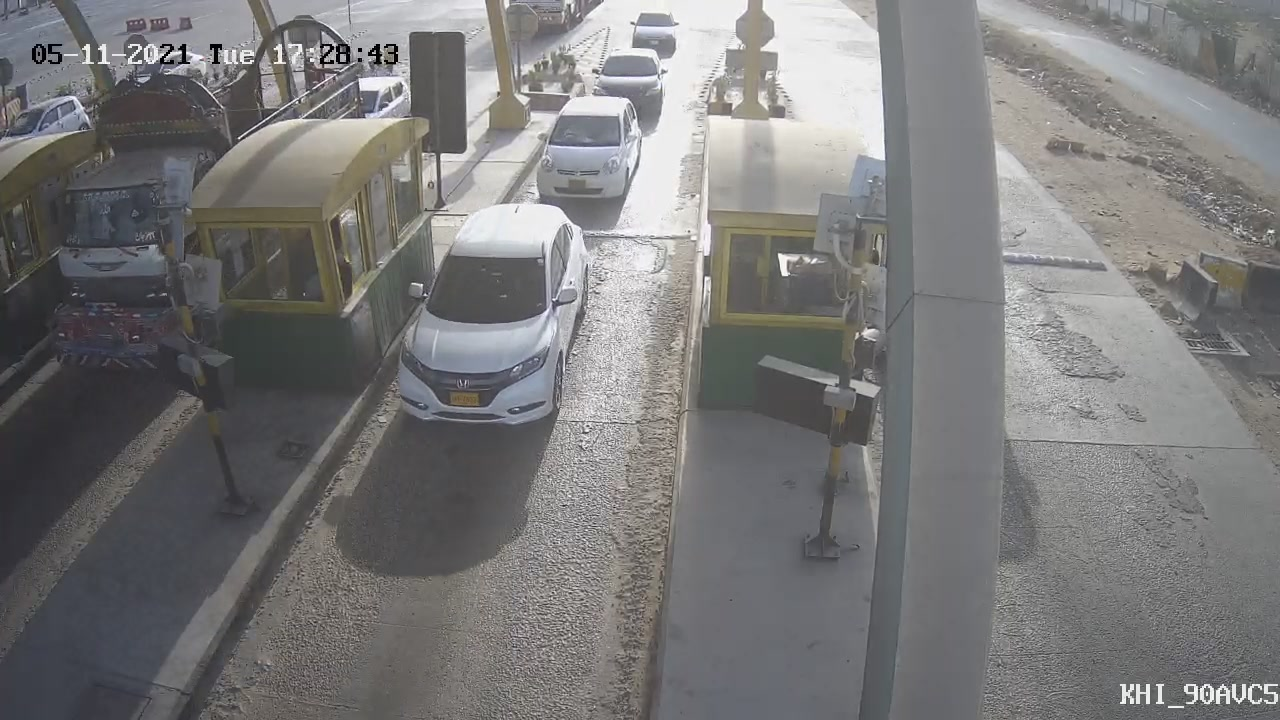F1: (364, 188, 607, 447), (525, 78, 653, 218)
